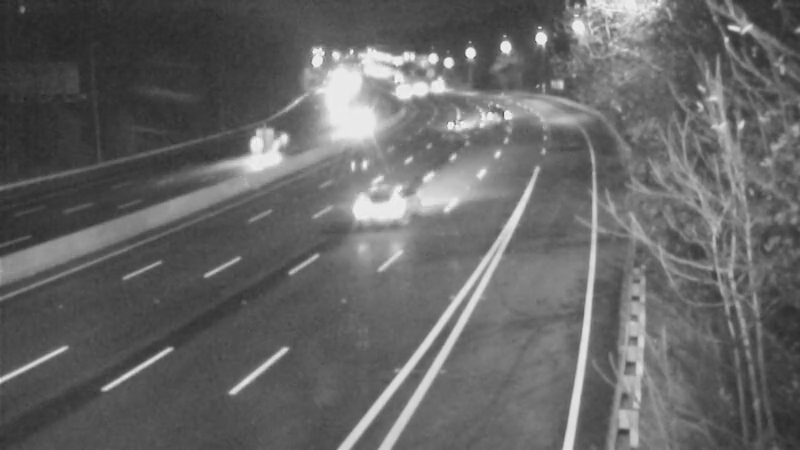vehicle: (341, 170, 421, 250), (370, 63, 420, 113), (471, 97, 521, 147), (423, 100, 473, 150), (231, 119, 281, 169), (338, 93, 388, 143)
